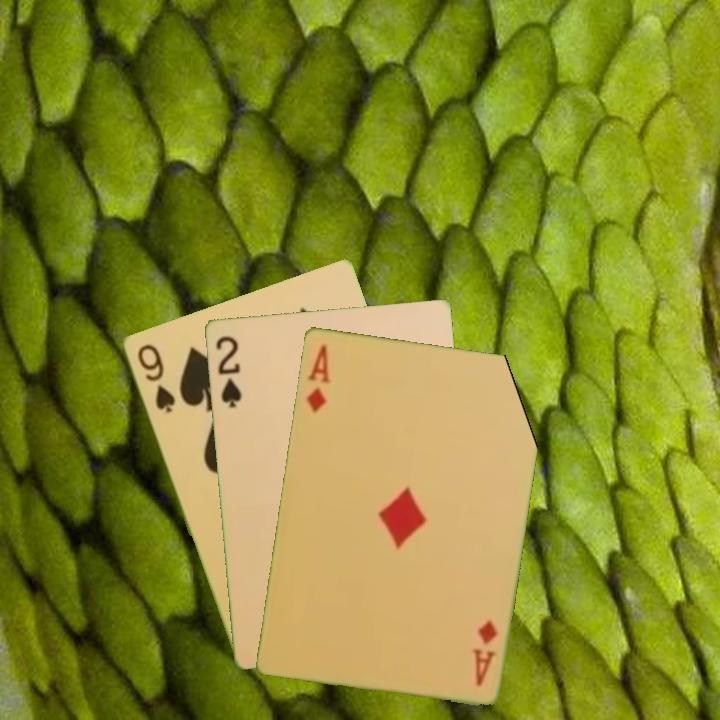2s: (212, 332, 244, 411)
9s: (133, 340, 178, 416)
Ad: (302, 341, 334, 416), (469, 616, 500, 689)
